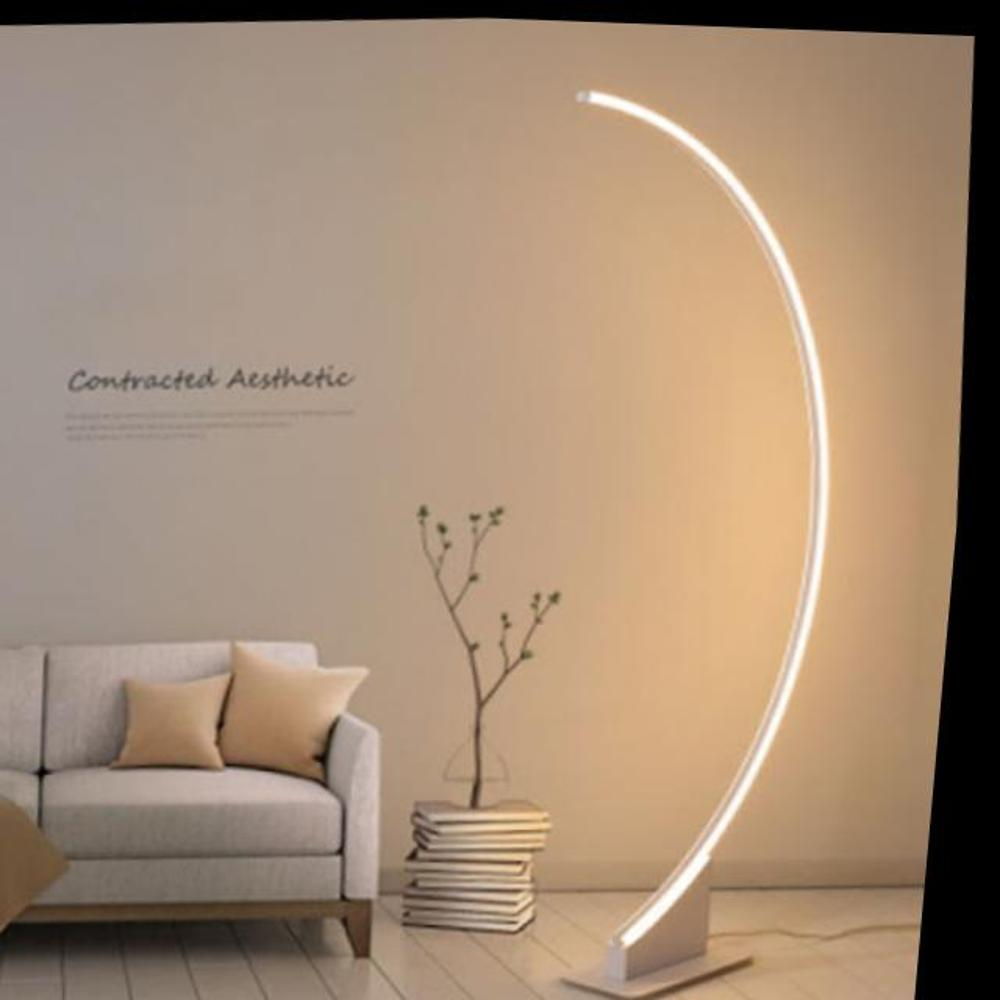shelf: (505, 52, 895, 1000)
